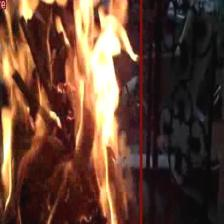fire: (0, 0, 141, 224)
